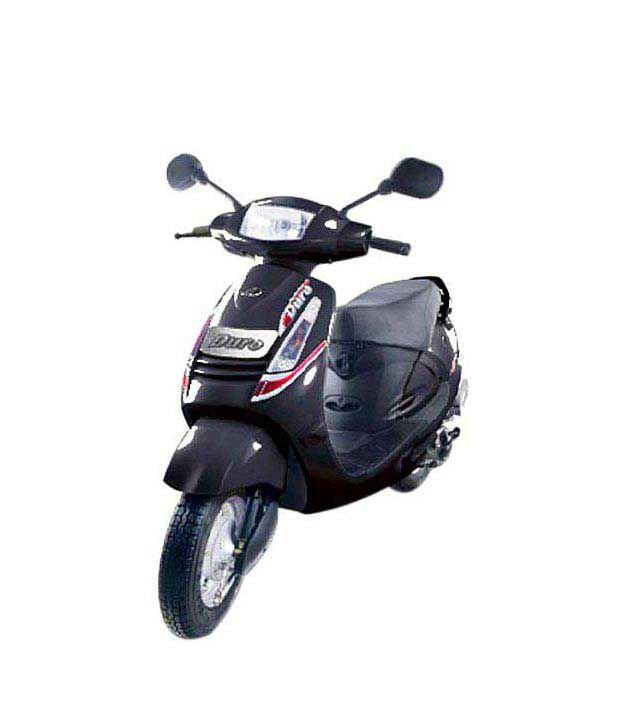Bike: (142, 199, 471, 533)
